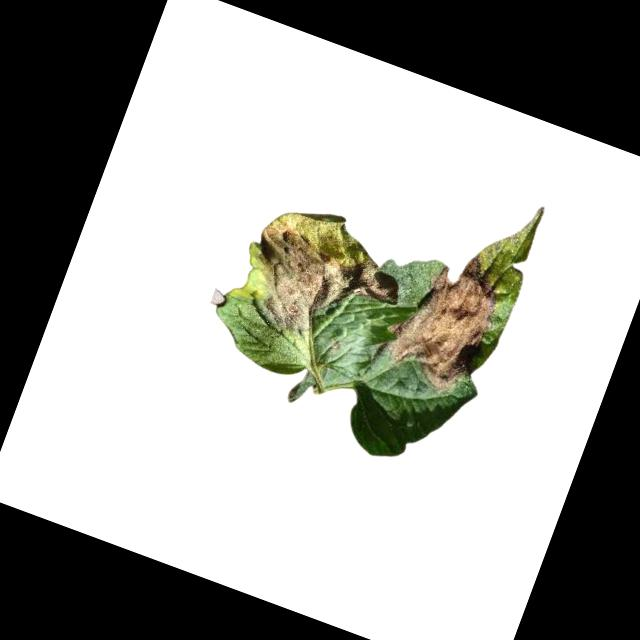Late_blight: (226, 188, 417, 361), (372, 236, 509, 400)
